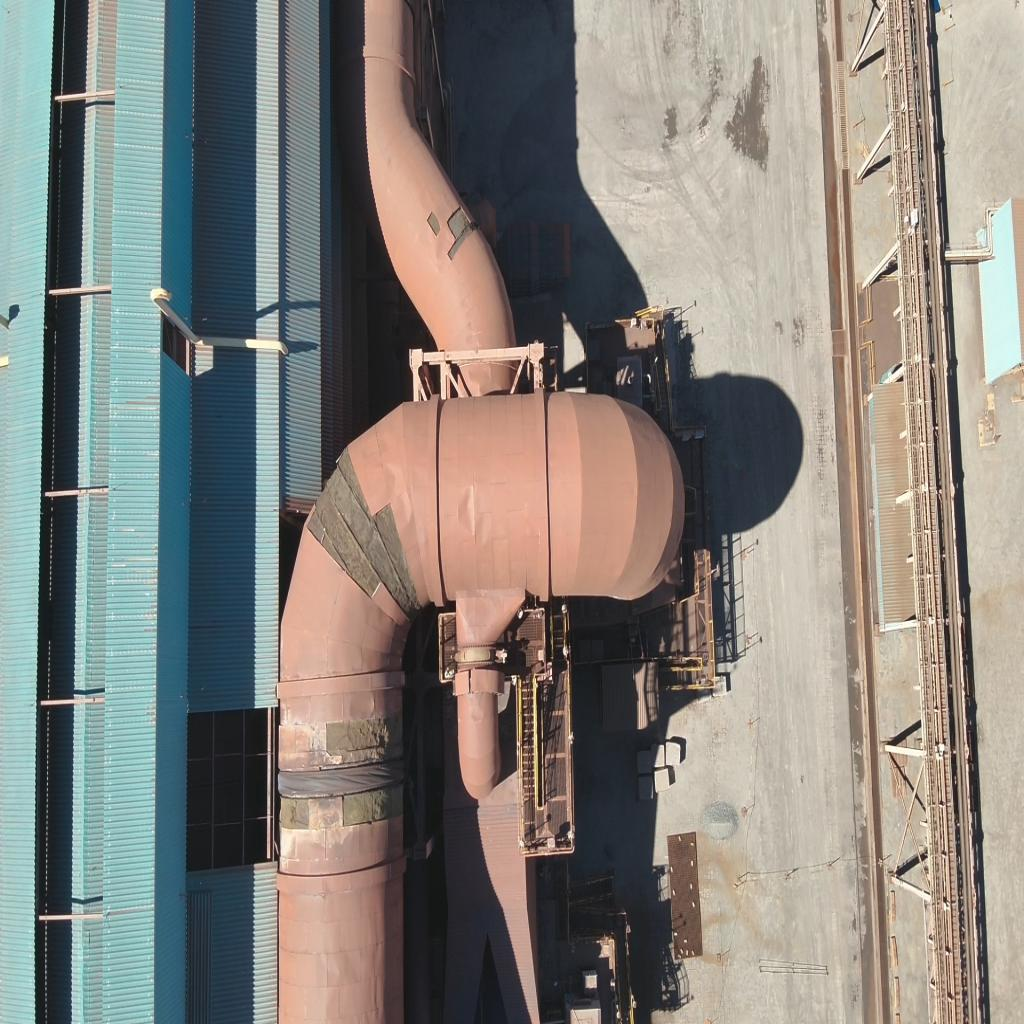Failures: (302, 462, 426, 630), (324, 713, 406, 760), (342, 779, 404, 825), (443, 197, 473, 264), (276, 792, 314, 830), (416, 202, 443, 244)
